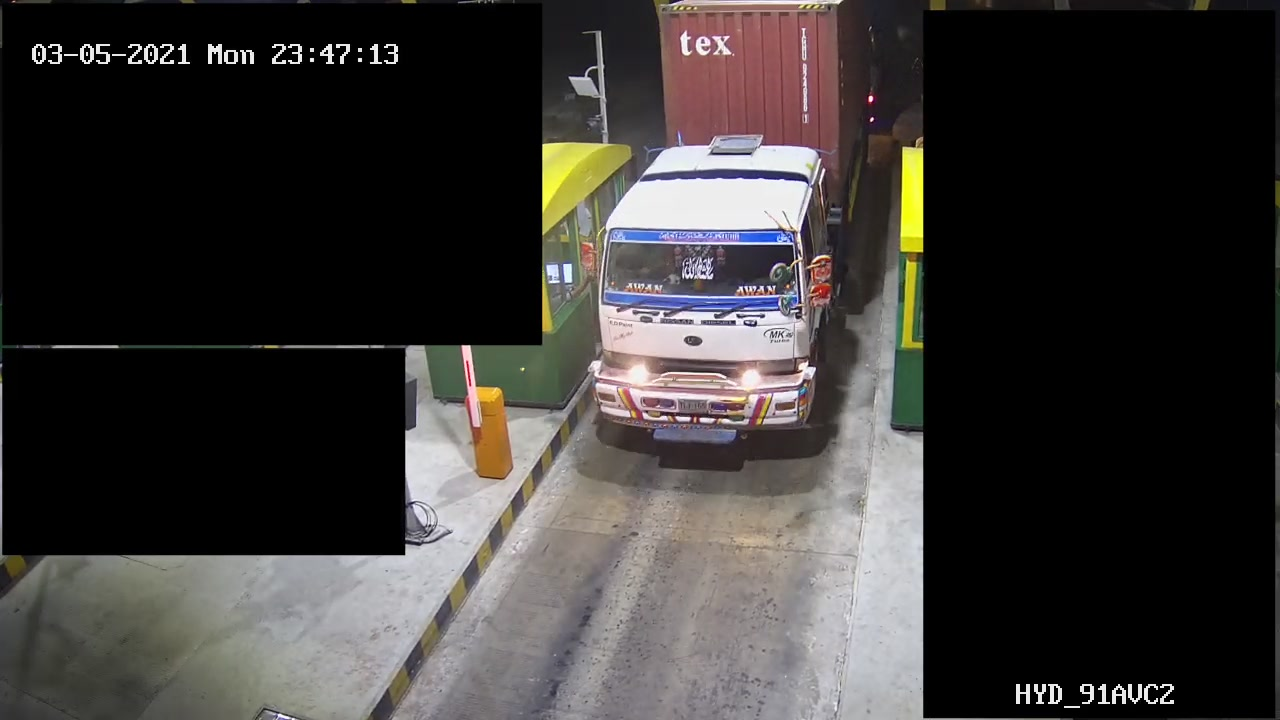F6: (588, 1, 884, 467)
